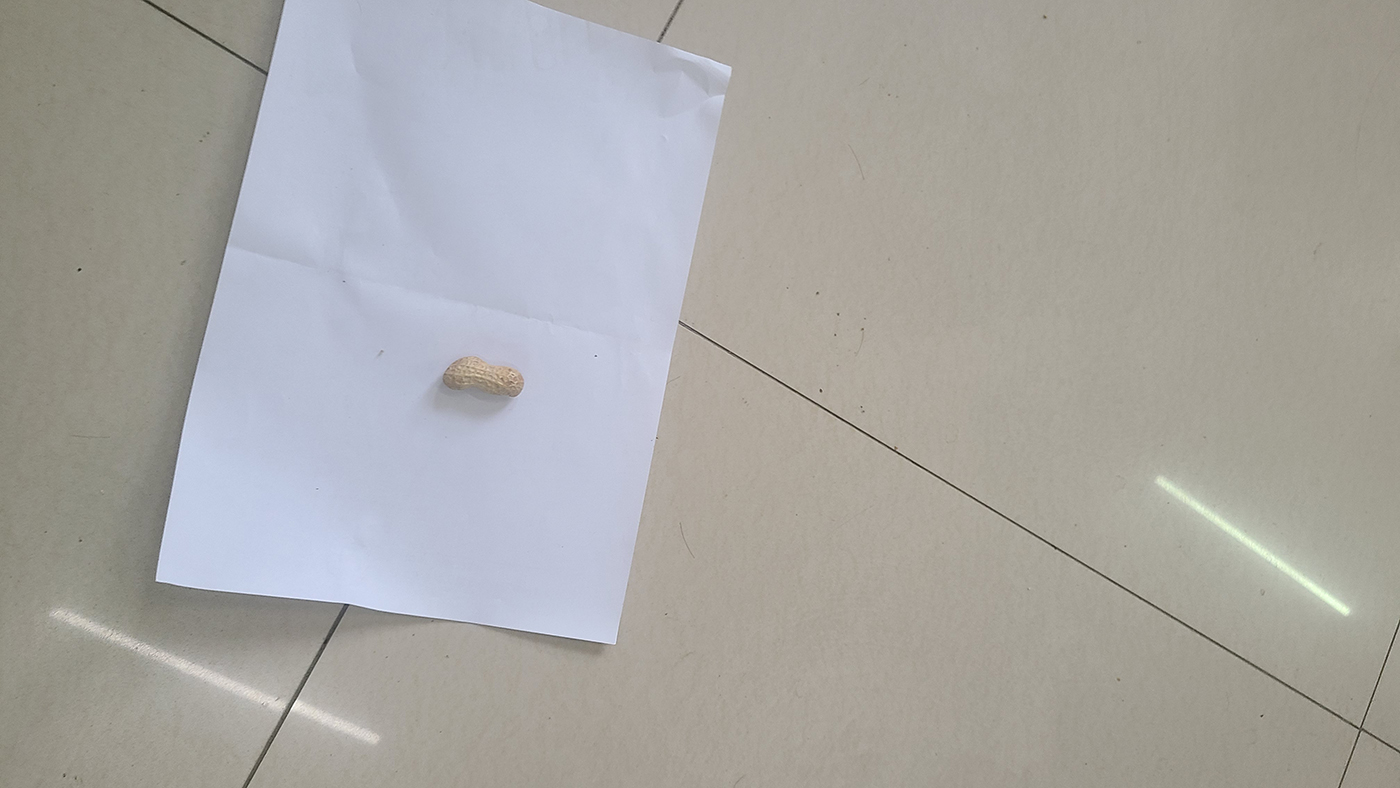h: (443, 356, 525, 396)
